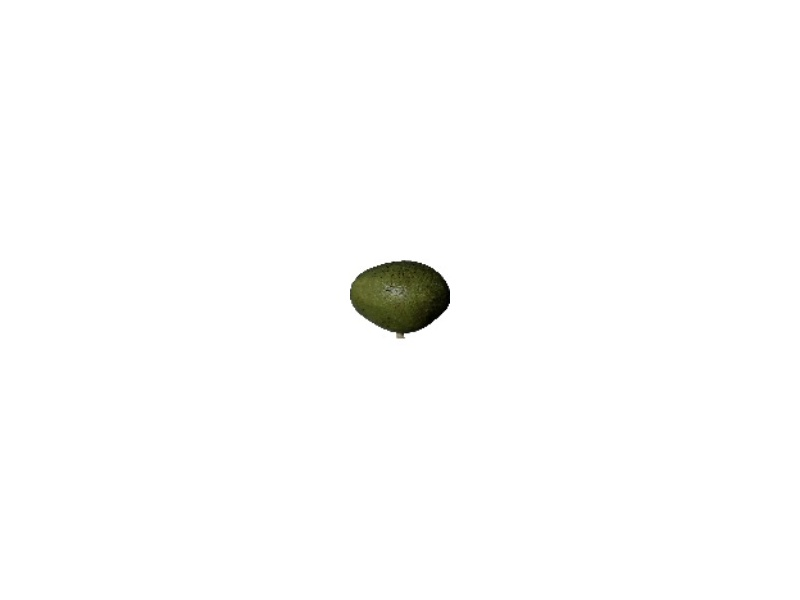abacate: (344, 261, 450, 331)
